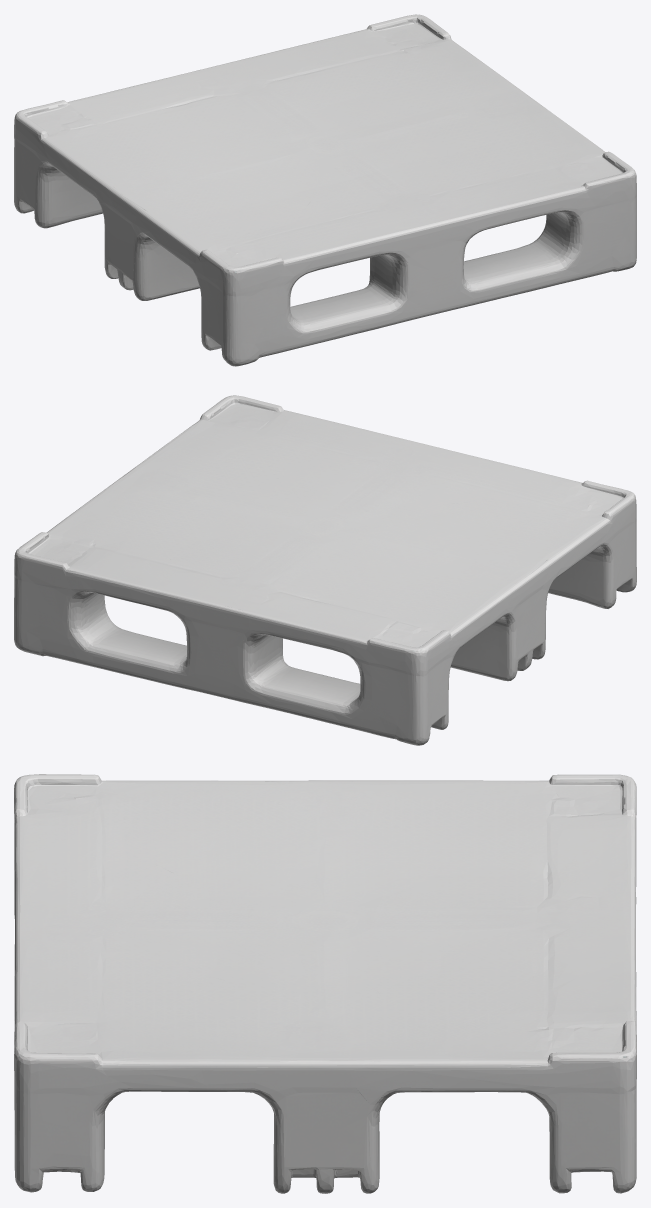
The model's file is plasticpallet.glb.
3 renders of one model, top to bottom at view 1: azimuth 30°, elevation 25°; view 2: azimuth 150°, elevation 25°; view 3: azimuth 270°, elevation 25°, orthographic. The views are drawn at different scales.
Visible parts, largest first — view 1: geometry_0; view 2: geometry_0; view 3: geometry_0.
Part boxes in pixels (x1,y1,x2,y2): geometry_0: [14, 14, 636, 366]; geometry_0: [14, 395, 636, 745]; geometry_0: [14, 774, 636, 1193].
Bounding box in the file's own units: 0.9997 × 0.232 × 0.9228.
1 material, 1 textured.
